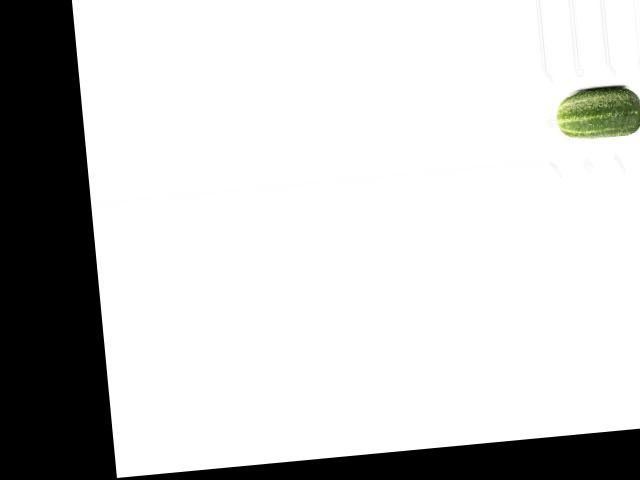cucumber: (555, 84, 640, 141)
